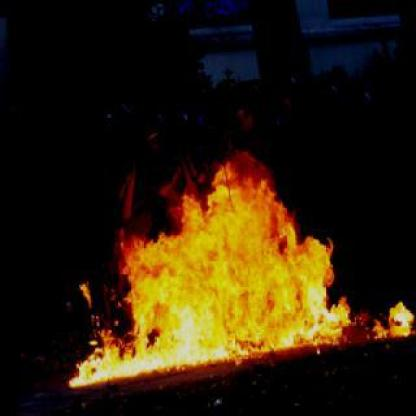Fire: (67, 154, 351, 390)
